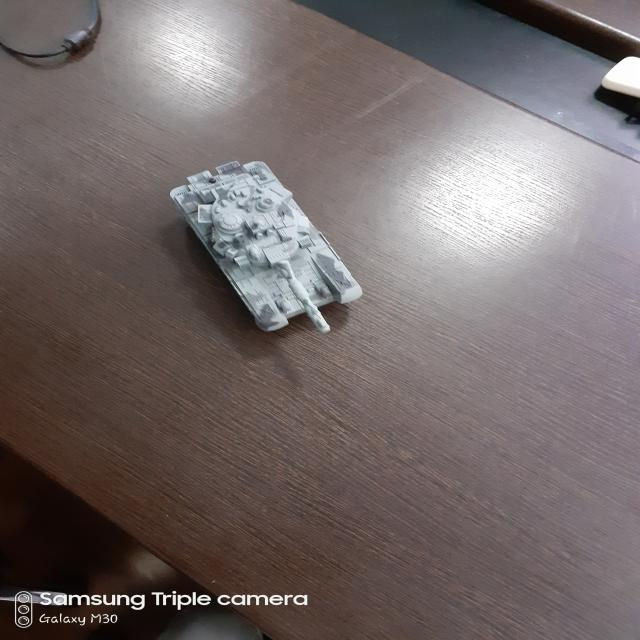tank: (171, 159, 363, 333)
